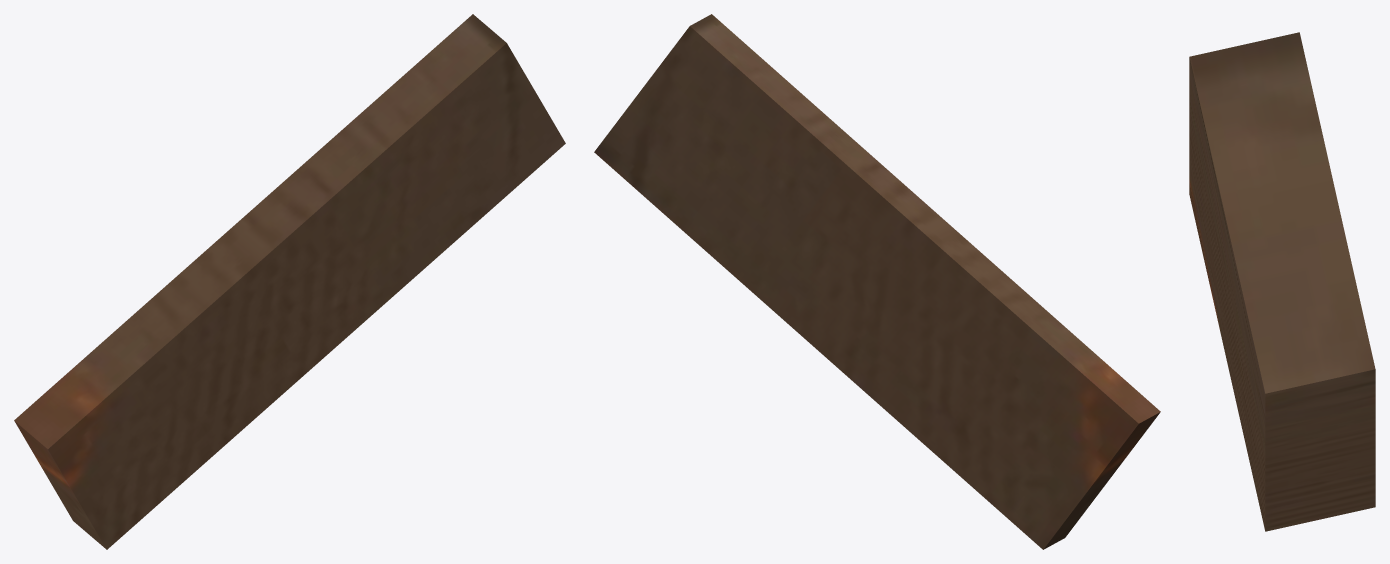
File: fan_left__blade_0.glb
The picture shows the model from 3 angles, left to right: view 1: azimuth 30°, elevation 25°; view 2: azimuth 150°, elevation 25°; view 3: azimuth 270°, elevation 25°; orthographic projection. The views are drawn at different scales.
Parts seen in each view (by area): view 1: geometry_0; view 2: geometry_0; view 3: geometry_0.
Part boxes in pixels (<box>): geometry_0: <box>14,14,565,549</box>; geometry_0: <box>594,14,1160,549</box>; geometry_0: <box>1189,32,1375,531</box>.
Size of the model in its own units: 0.0282 by 0.0218 by 0.00428.
1 material, 1 textured.
